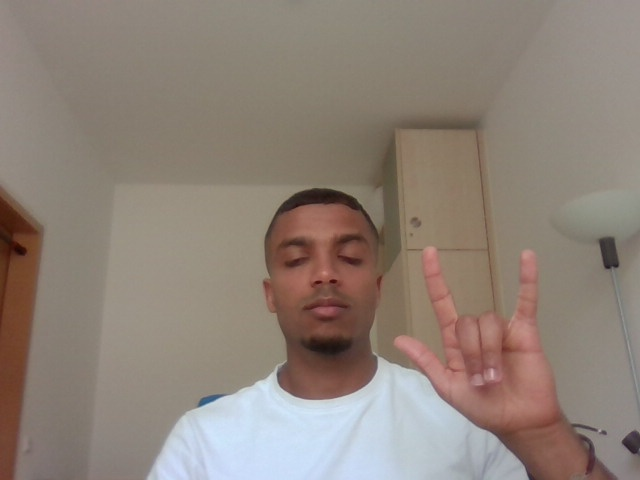absolutely: (386, 236, 581, 444)
